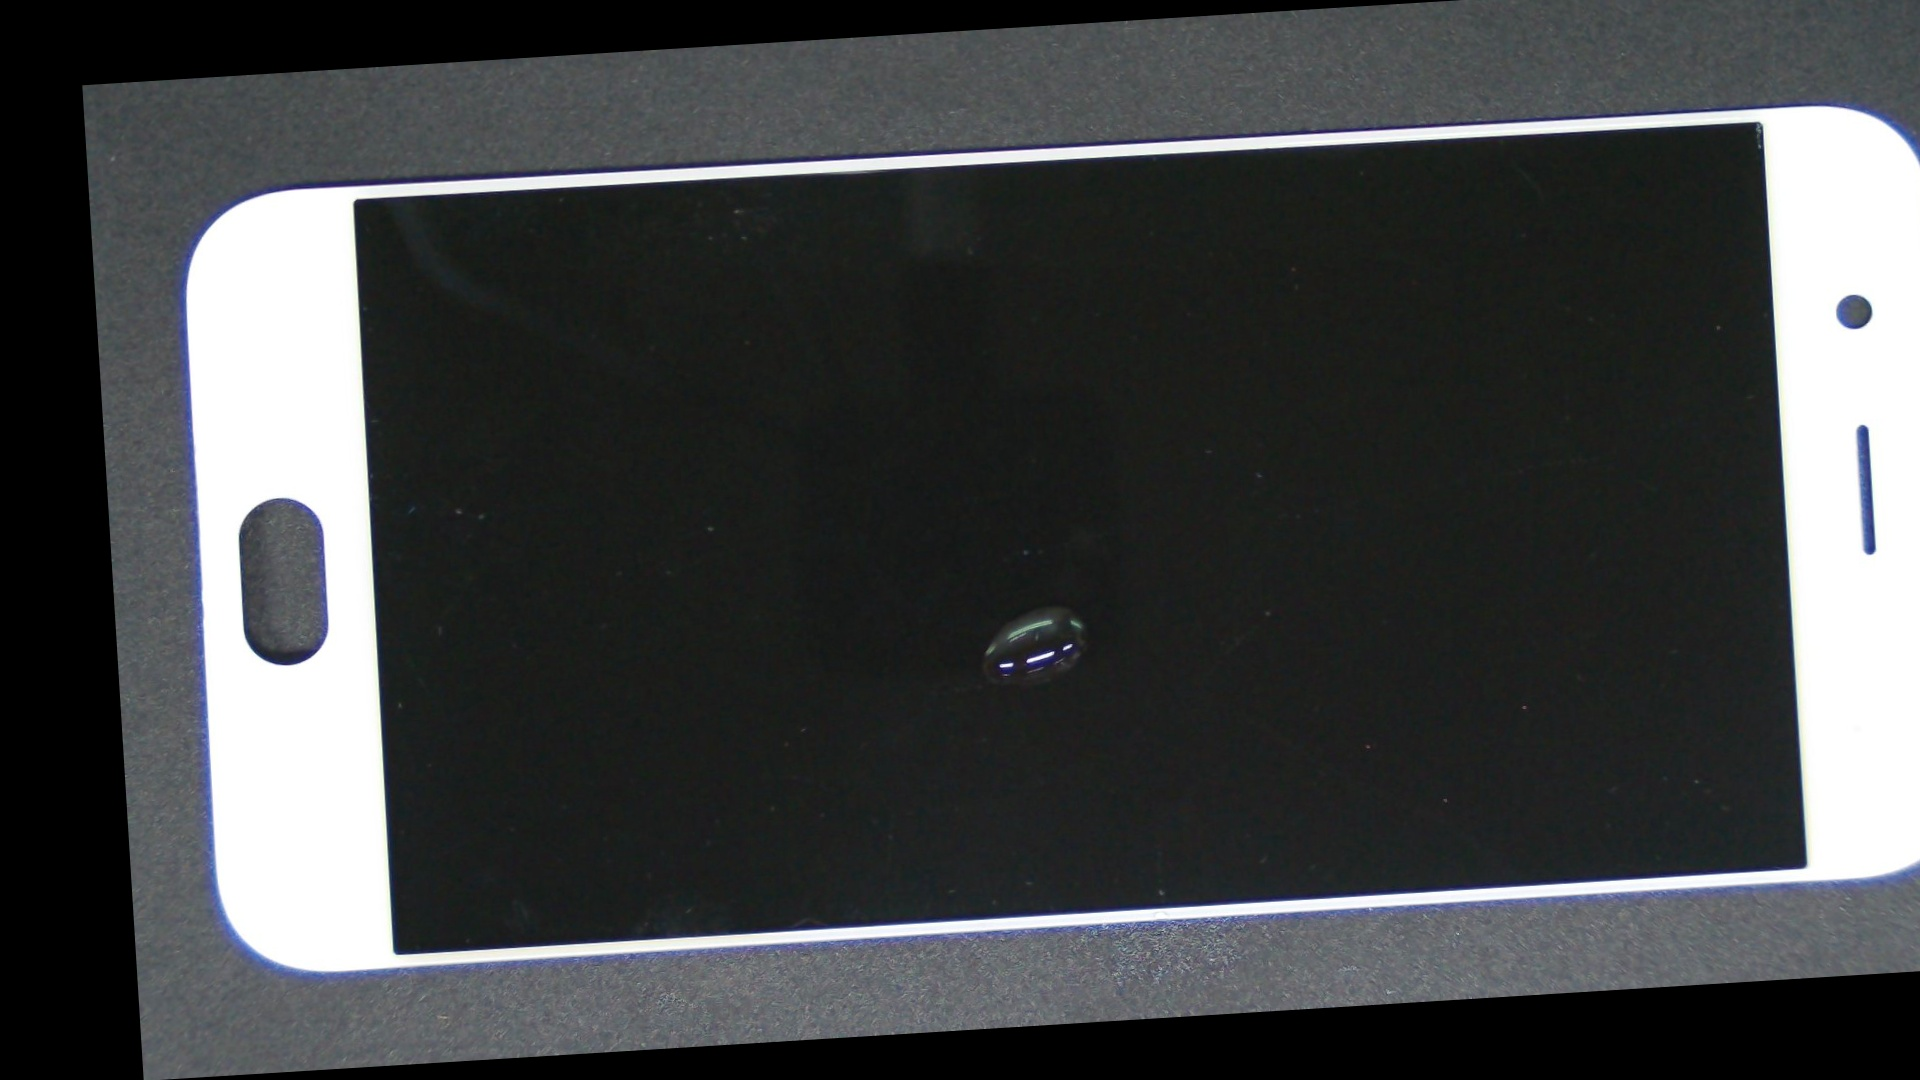oil: (568, 287, 1540, 926)
